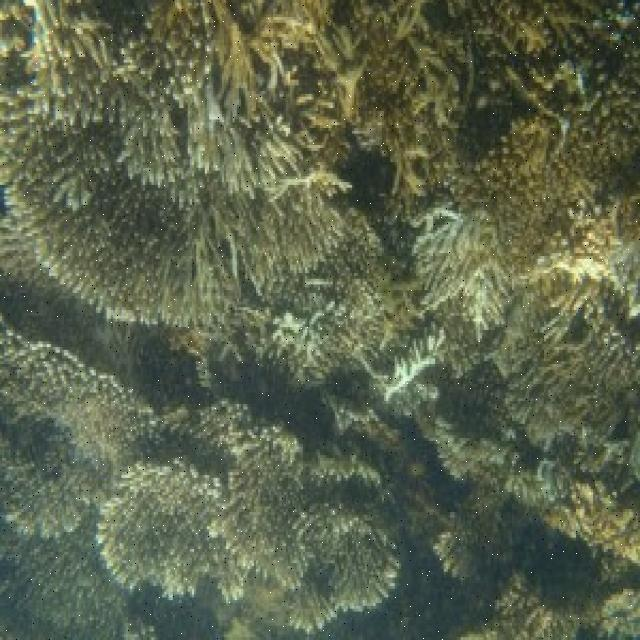Bleached: (119, 50, 302, 197), (404, 199, 521, 342), (540, 219, 640, 324), (372, 329, 443, 416), (14, 1, 70, 101), (115, 457, 224, 497), (1, 511, 83, 550), (88, 500, 118, 590), (331, 595, 397, 634), (274, 316, 320, 363), (220, 553, 255, 612), (144, 572, 200, 608), (536, 455, 561, 503), (202, 88, 225, 129)
Healthy: (343, 1, 640, 198), (460, 353, 640, 640), (1, 102, 217, 338), (90, 453, 228, 597), (213, 453, 315, 596), (1, 393, 113, 508)
